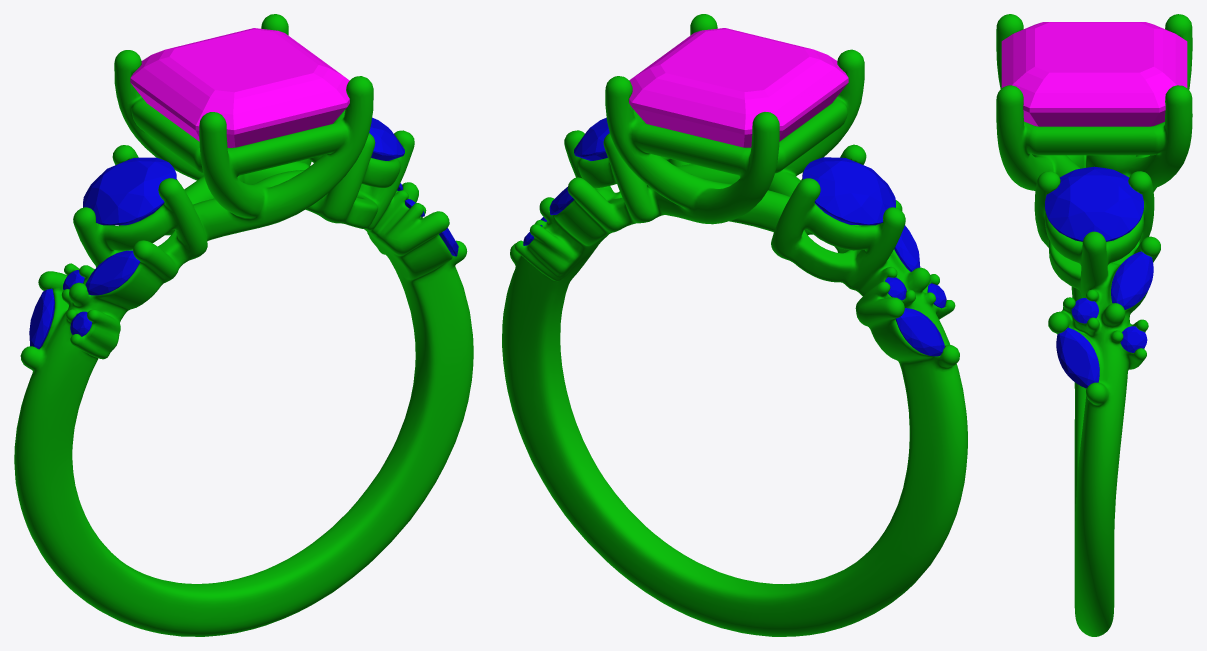
Rendered from BE1D356_AS_200ct_RENDER.glb.
3 views of the same model, side by side, from view 1: azimuth 30°, elevation 25°; view 2: azimuth 150°, elevation 25°; view 3: azimuth 270°, elevation 25° (orthographic).
Visible parts, largest first — view 1: Metal 01, CS_Diamond_Asscher, Diamond_Round_side.001, Diamond_Marquise_side.001, Diamond_Marquise_side.002, Diamond_Round_side; view 2: Metal 01, CS_Diamond_Asscher, Diamond_Round_side.001, Diamond_Marquise_side.002, Diamond_Round_side, Diamond_Marquise_side.001; view 3: Metal 01, CS_Diamond_Asscher, Diamond_Round_side, Diamond_Marquise_side.003, Diamond_Marquise_side, Diamond_Round_side.005, Diamond_Round_side.004.
Boxes of the visible parts, <box> form: Metal 01: <box>14,14,473,636</box>; CS_Diamond_Asscher: <box>130,28,349,147</box>; Diamond_Round_side.001: <box>83,157,176,225</box>; Diamond_Marquise_side.001: <box>85,250,140,295</box>; Diamond_Marquise_side.002: <box>29,288,54,348</box>; Diamond_Round_side: <box>369,117,404,160</box>; Metal 01: <box>502,14,967,636</box>; CS_Diamond_Asscher: <box>629,28,848,147</box>; Diamond_Round_side.001: <box>802,157,895,225</box>; Diamond_Marquise_side.002: <box>895,308,944,356</box>; Diamond_Round_side: <box>574,117,609,160</box>; Diamond_Marquise_side.001: <box>894,225,920,271</box>; Metal 01: <box>996,14,1192,636</box>; CS_Diamond_Asscher: <box>1001,22,1187,126</box>; Diamond_Round_side: <box>1045,166,1143,241</box>; Diamond_Marquise_side.003: <box>1056,327,1099,388</box>; Diamond_Marquise_side: <box>1111,251,1153,309</box>; Diamond_Round_side.005: <box>1120,326,1147,352</box>; Diamond_Round_side.004: <box>1071,298,1098,323</box>.
Bounding box in the file's own units: 21.23 × 25.17 × 7.92.
